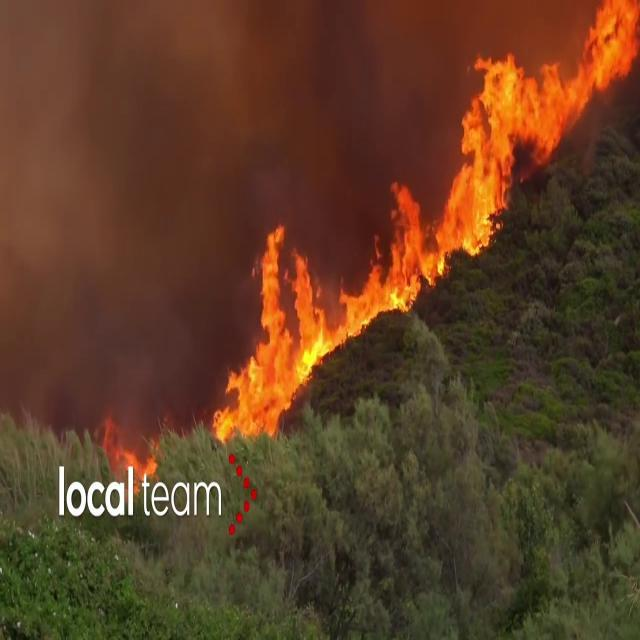Fire: (440, 0, 640, 268), (202, 246, 332, 444), (330, 178, 442, 356)
Smoke: (0, 0, 446, 350)
